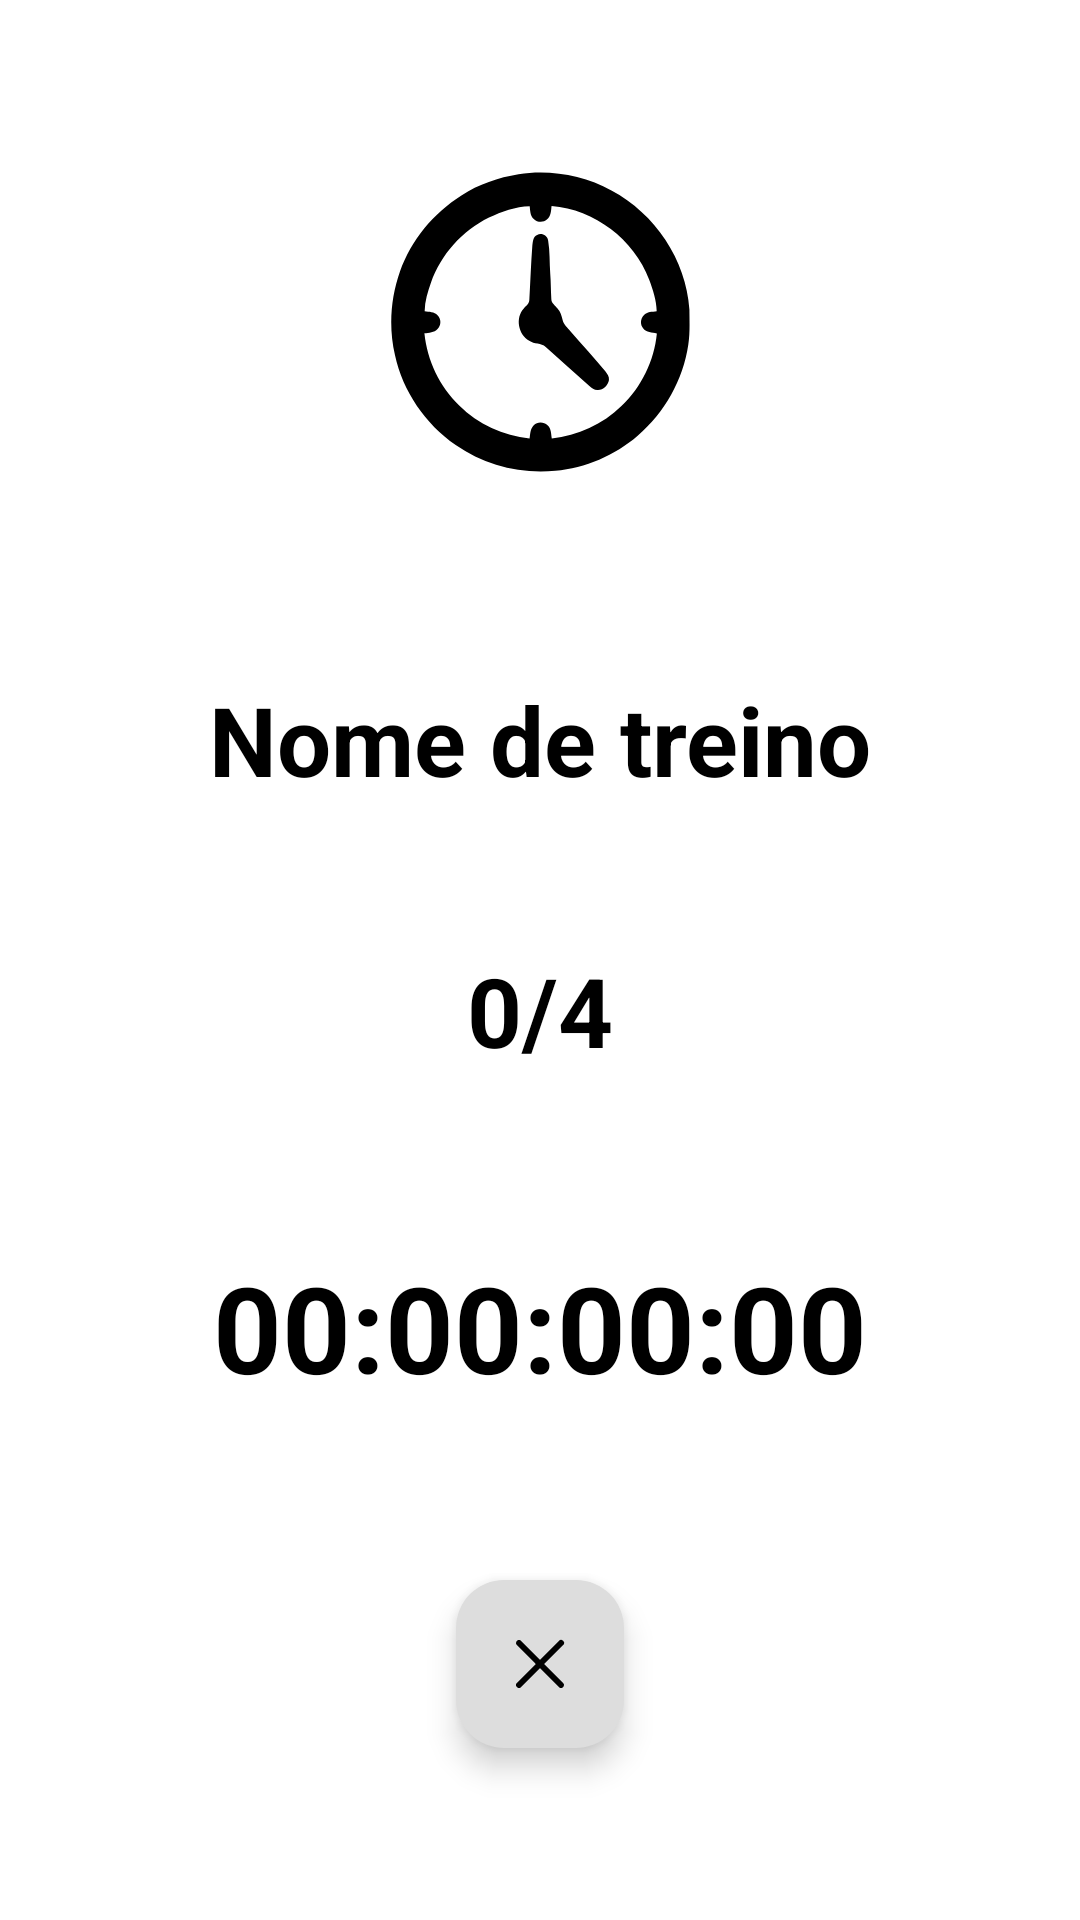

Named icons in this screenshot (1080px×1920px) and their centers, [x,y]:
fluent dismiss: [540,1664]
stop watch: [540,322]
